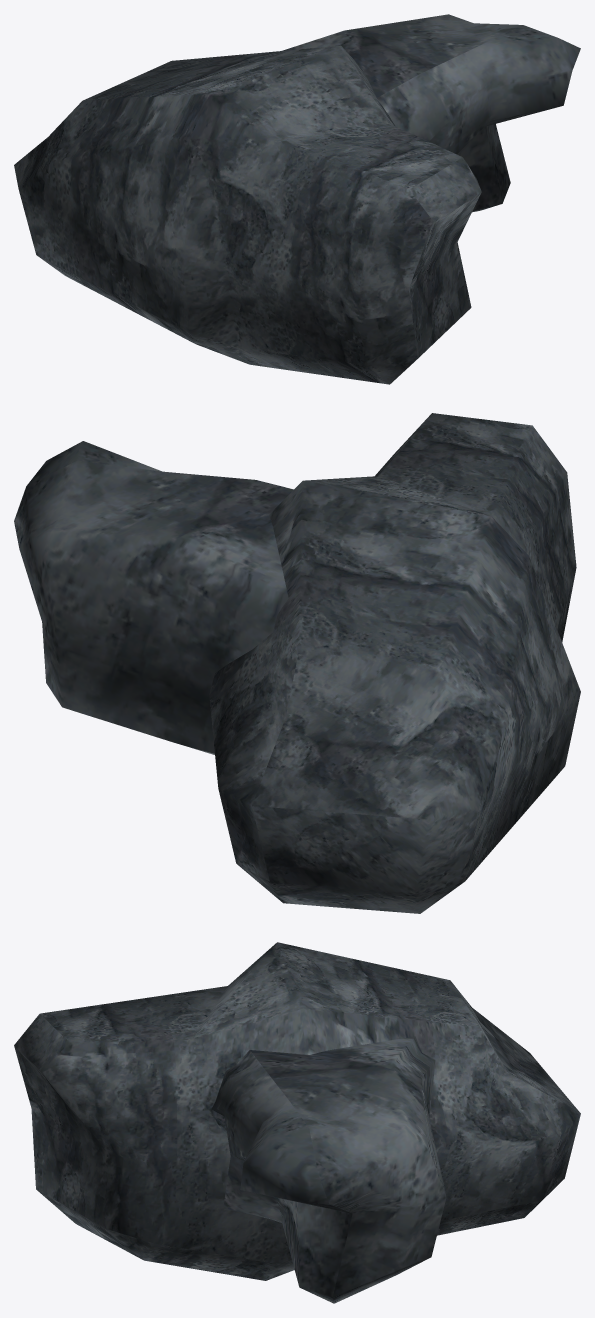
The model's file is environment_stone_shanti_004_b.FBX.
3 views of the same model, one above another, from view 1: azimuth 30°, elevation 25°; view 2: azimuth 150°, elevation 25°; view 3: azimuth 270°, elevation 25° (orthographic). The views are drawn at different scales.
Visible parts, largest first — view 1: environment_stone_shanti_004_b; view 2: environment_stone_shanti_004_b; view 3: environment_stone_shanti_004_b.
Boxes of the visible parts, left/top/right/bottom form: environment_stone_shanti_004_b: left=14, top=14, right=580, bottom=384; environment_stone_shanti_004_b: left=14, top=413, right=580, bottom=913; environment_stone_shanti_004_b: left=14, top=942, right=580, bottom=1303.
Bounding box in the file's own units: 425 × 240 × 444.
1 material, 1 textured.
